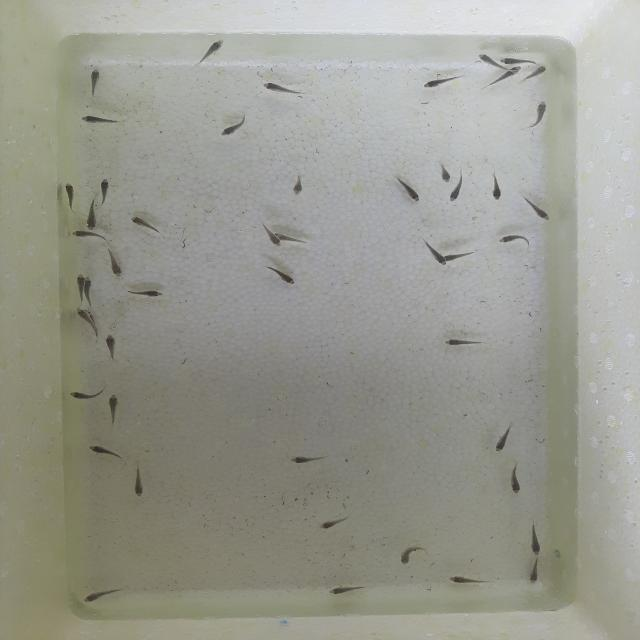fingerling: (77, 582, 137, 604), (260, 263, 303, 289), (194, 36, 226, 69), (126, 213, 168, 238), (84, 442, 130, 464), (83, 62, 107, 103), (74, 307, 101, 343), (415, 73, 461, 94), (260, 80, 310, 99), (525, 99, 552, 132), (72, 113, 127, 129), (523, 194, 554, 222), (254, 222, 285, 250), (397, 541, 431, 566), (492, 420, 516, 454), (324, 582, 376, 597), (497, 229, 534, 250), (217, 114, 249, 138), (315, 514, 360, 531), (128, 466, 150, 500), (68, 383, 106, 402), (525, 522, 544, 557), (286, 453, 331, 467), (398, 179, 422, 205), (66, 230, 105, 245), (104, 392, 121, 426), (63, 180, 79, 216), (505, 468, 524, 496), (424, 245, 448, 267), (488, 173, 506, 201), (500, 54, 542, 66), (527, 556, 543, 586), (290, 172, 307, 200), (444, 337, 485, 348), (446, 573, 483, 585), (99, 176, 112, 210), (494, 65, 523, 80), (130, 286, 166, 298), (526, 63, 550, 81), (85, 199, 98, 231), (107, 254, 124, 278), (474, 52, 502, 66), (447, 248, 473, 263), (74, 273, 86, 305), (446, 184, 464, 205), (105, 338, 118, 361), (440, 165, 453, 184)
